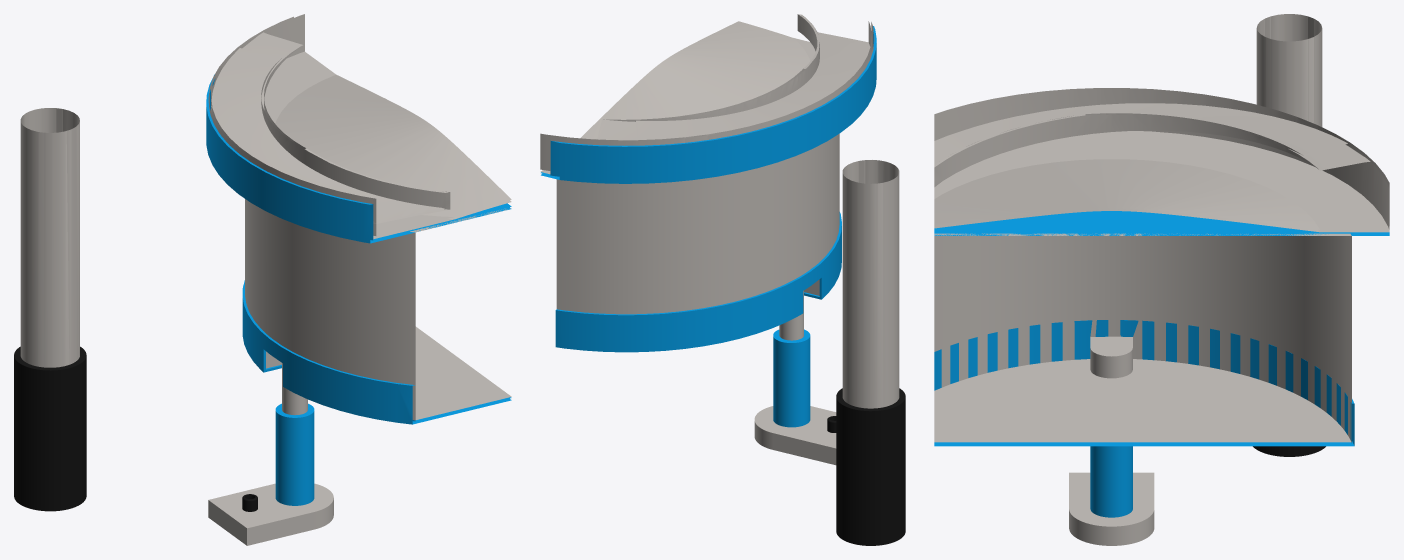
The model's file is PinInsertionStation_Cube05.glb.
3 renders of one model, left to right at view 1: azimuth 30°, elevation 25°; view 2: azimuth 150°, elevation 25°; view 3: azimuth 270°, elevation 25°, orthographic. The views are drawn at different scales.
Visible parts, largest first — view 1: color-25; view 2: color-25; view 3: color-25.
Part boxes in pixels (x1,y1,x2,y2): color-25: [14, 14, 511, 545]; color-25: [540, 14, 905, 545]; color-25: [934, 14, 1389, 545].
Bounding box in the file's own units: 0.2953 × 0.32 × 0.32.
